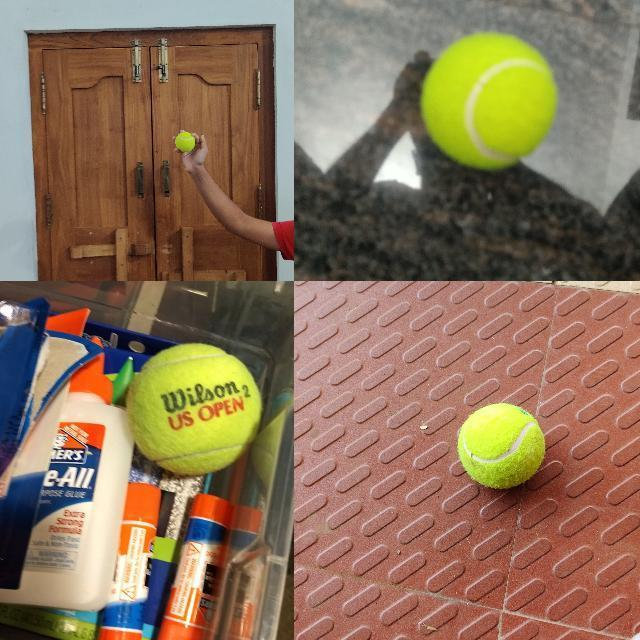tennis-ball: (419, 31, 557, 171), (125, 341, 264, 475), (458, 404, 544, 489), (174, 131, 195, 151)
